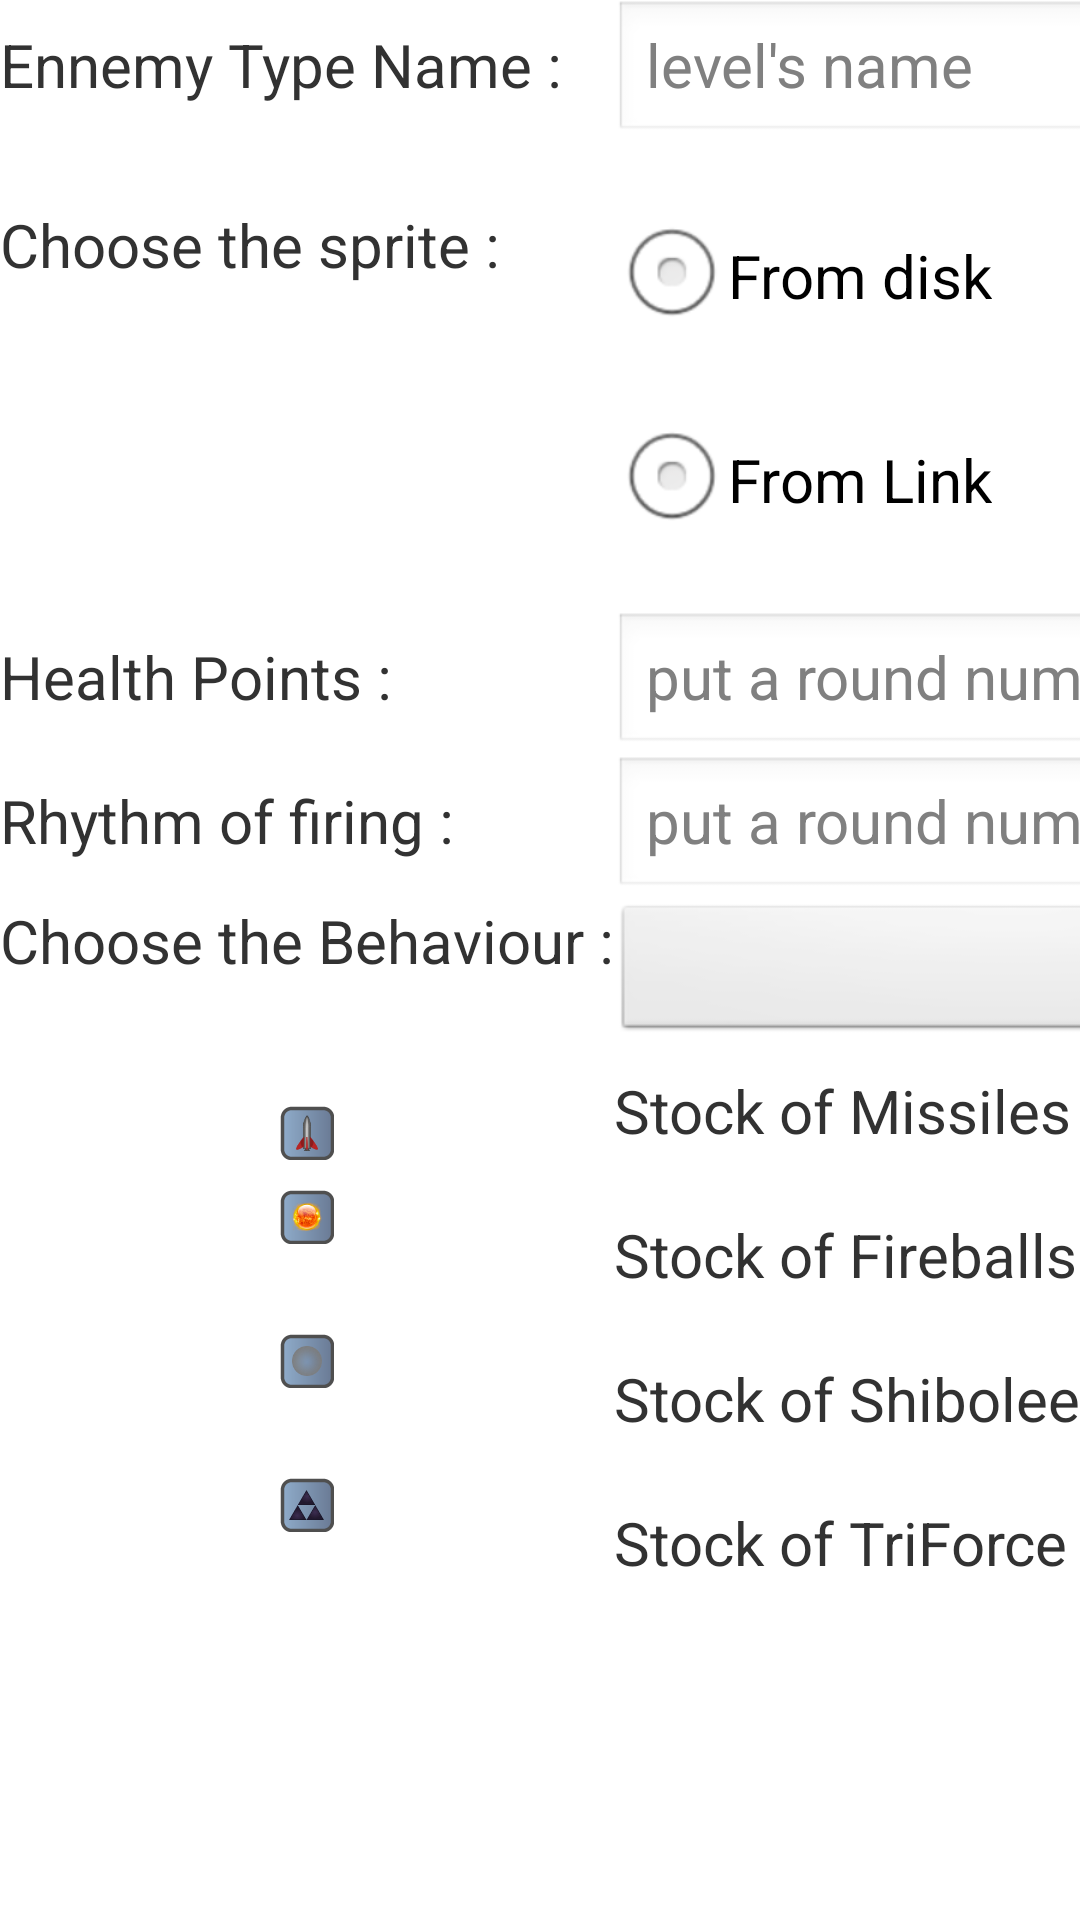

Icon click points for this 1080×1920 phone screenshot, format (x=x, y=y):
missille: (x=307, y=1133)
